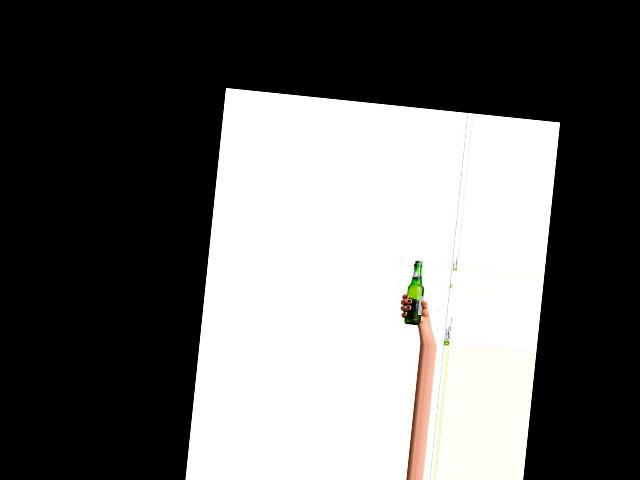beer: (403, 259, 427, 325)
